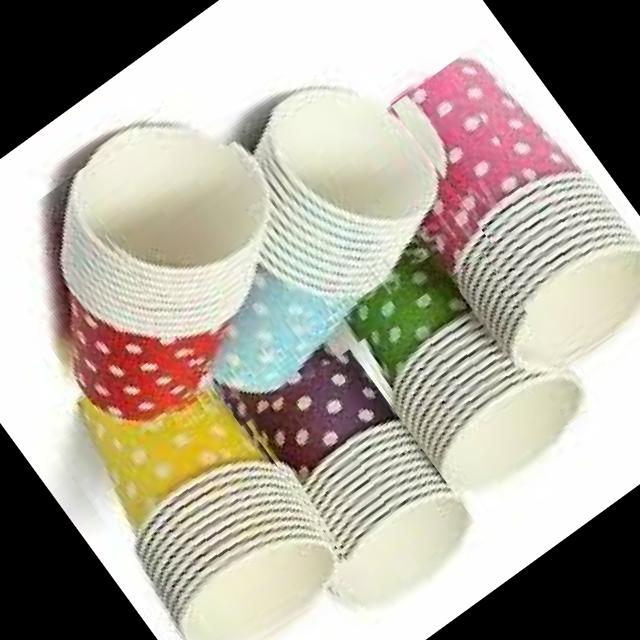PaperCardboard: (408, 62, 640, 370), (202, 87, 434, 391), (74, 387, 336, 640), (229, 342, 469, 615), (352, 232, 581, 498), (58, 120, 261, 415)
